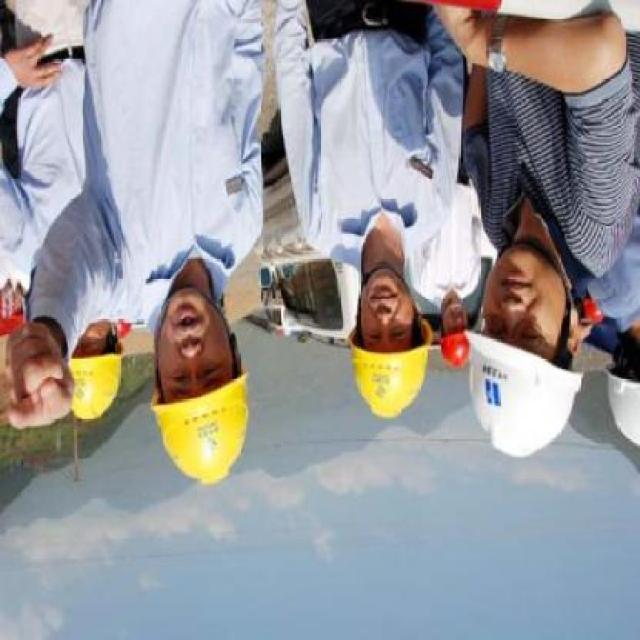safetyhelmet: (467, 332, 581, 455), (153, 372, 249, 483), (350, 318, 432, 417), (70, 349, 121, 418), (607, 369, 639, 443), (441, 329, 470, 368), (0, 309, 24, 335), (582, 295, 604, 323), (116, 319, 132, 338)
